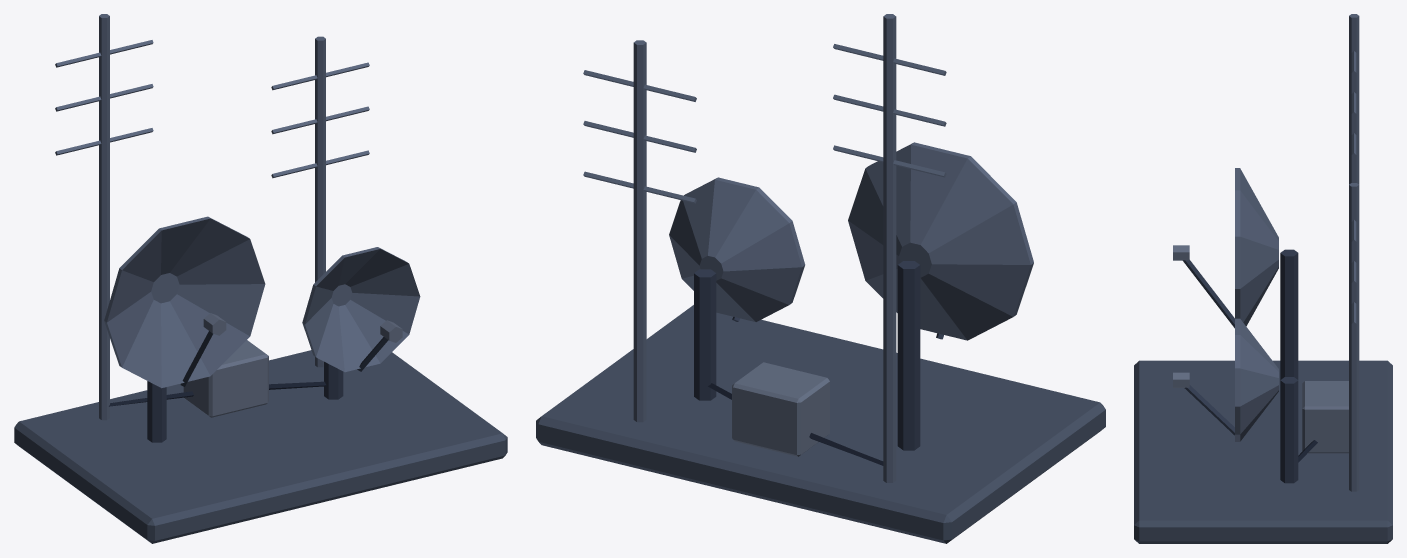
File: city_satellite_cluster.glb
The picture shows the model from 3 angles, left to right: view 1: azimuth 30°, elevation 25°; view 2: azimuth 150°, elevation 25°; view 3: azimuth 270°, elevation 25°; orthographic projection. The views are drawn at different scales.
Visible parts, largest first — view 1: common_base, dish, dish.001, mast, junction_box, mast.001, dish_mount, coax, dish_mount.001; view 2: common_base, dish, dish.001, junction_box, mast, mast.001, dish_mount, dish_mount.001; view 3: common_base, dish, dish.001, junction_box, mast.001, dish_mount, dish_mount.001, mast, receiver_arm, receiver_arm.001.
Part boxes in pixels (<box>): common_base: <box>14,350,507,543</box>; dish: <box>104,216,265,388</box>; dish.001: <box>302,247,420,372</box>; mast: <box>99,14,109,420</box>; junction_box: <box>183,340,268,417</box>; mast.001: <box>315,36,325,367</box>; dish_mount: <box>147,381,166,442</box>; coax: <box>109,381,326,406</box>; dish_mount.001: <box>324,361,343,399</box>; common_base: <box>536,305,1105,543</box>; dish: <box>848,142,1033,340</box>; dish.001: <box>669,177,805,321</box>; junction_box: <box>732,362,829,456</box>; mast: <box>883,14,896,482</box>; mast.001: <box>633,40,646,422</box>; dish_mount: <box>897,261,920,450</box>; dish_mount.001: <box>694,269,716,400</box>; common_base: <box>1134,360,1392,543</box>; dish: <box>1235,168,1278,326</box>; dish.001: <box>1235,318,1278,441</box>; junction_box: <box>1302,381,1348,453</box>; mast.001: <box>1349,183,1359,491</box>; dish_mount: <box>1280,249,1298,379</box>; dish_mount.001: <box>1280,377,1298,483</box>; mast: <box>1349,14,1359,184</box>; receiver_arm: <box>1183,260,1234,328</box>; receiver_arm.001: <box>1184,385,1234,435</box>.
Bounding box in the file's own units: 3 × 3.4 × 2.
